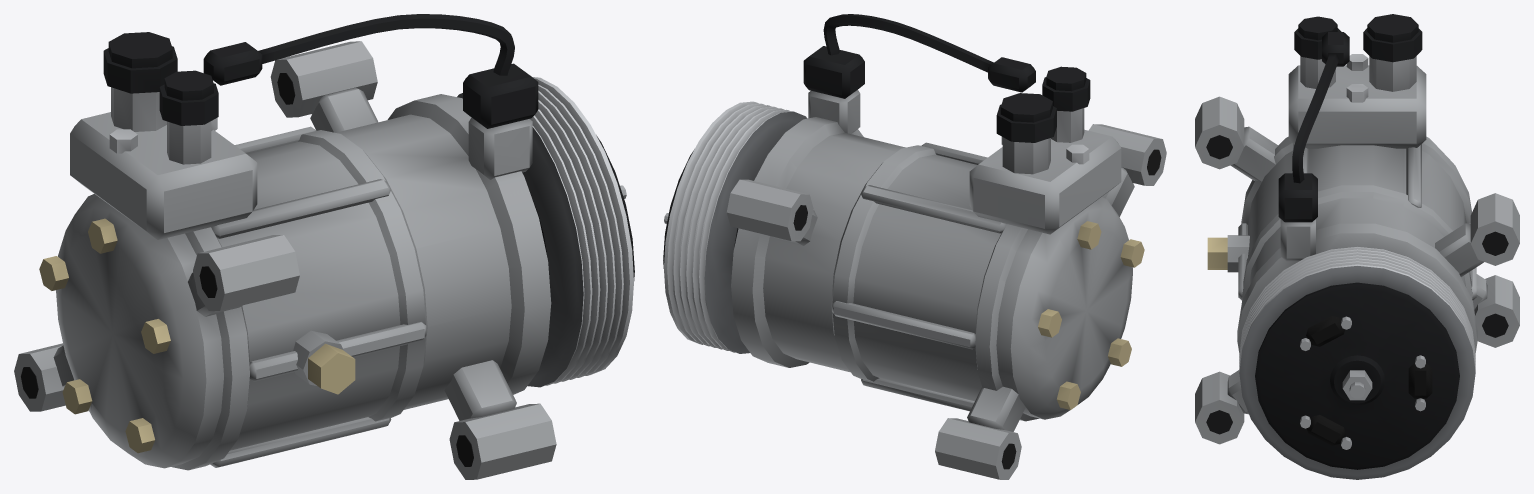
The model's file is ac_compressor-lo-v1.glb.
3 views of the same model, side by side, from view 1: azimuth 30°, elevation 25°; view 2: azimuth 150°, elevation 25°; view 3: azimuth 270°, elevation 25° (orthographic). The views are drawn at different scales.
Parts seen in each view (by area): view 1: body, manifold, pulley; view 2: body, pulley, manifold; view 3: body, clutch_plate, manifold, pulley.
Part boxes in pixels (box(x1,y1,x2,y2)): body: box(14, 14, 556, 479); manifold: box(70, 32, 257, 239); pulley: box(457, 77, 633, 387); body: box(726, 14, 1166, 479); pulley: box(664, 101, 807, 353); manifold: box(969, 66, 1121, 234); body: box(1195, 32, 1519, 444); clutch_plate: box(1255, 282, 1459, 469); manifold: box(1288, 14, 1426, 148); pulley: box(1239, 247, 1475, 479).
Bounding box in the file's own units: 0.23 × 0.1801 × 0.165.
